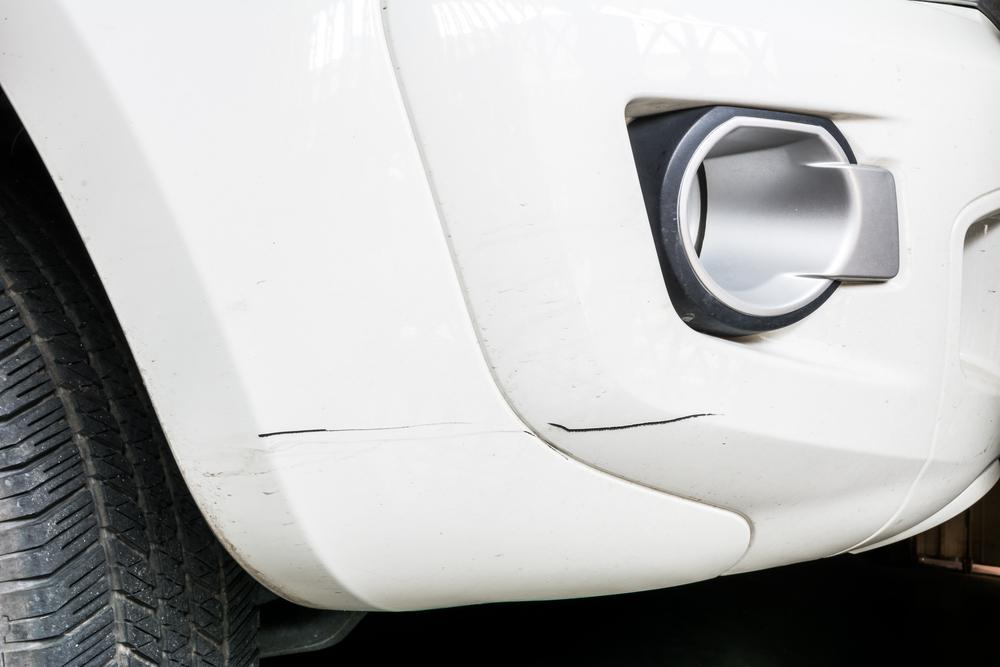scratch: (240, 419, 491, 445), (547, 406, 724, 442)
